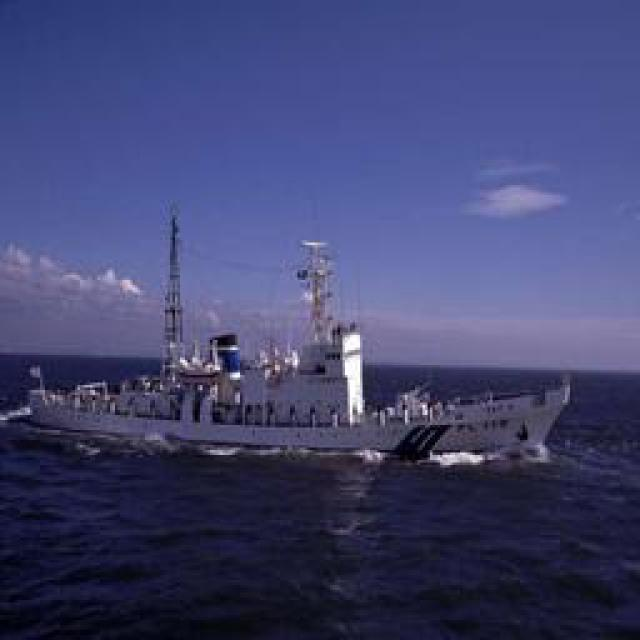Ship: (20, 205, 580, 460)
